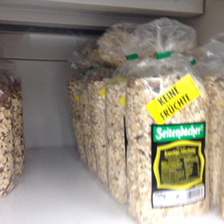cereal: (128, 55, 211, 224)
